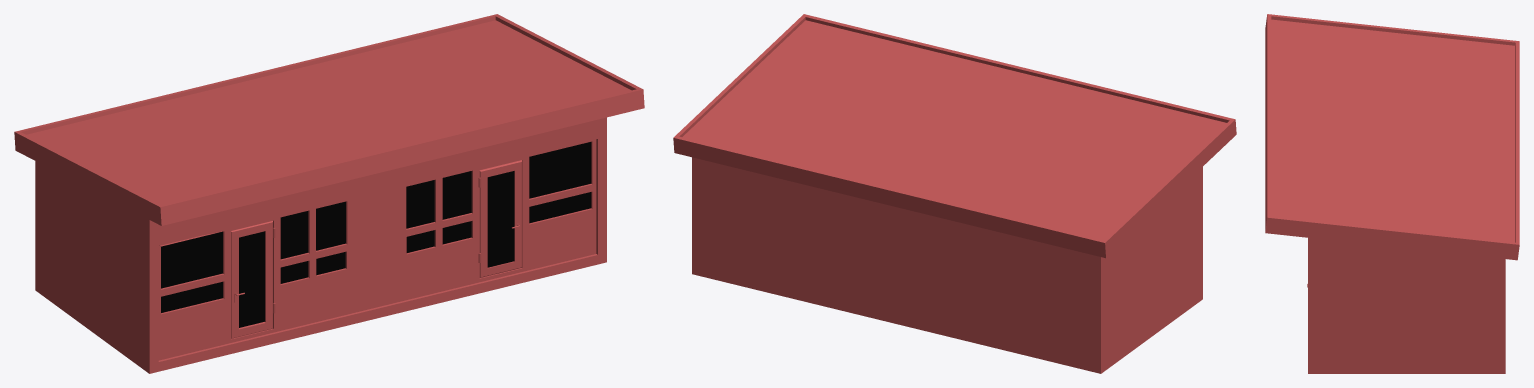
Rendered from SM_shop_5.fbx.
The picture shows the model from 3 angles, left to right: view 1: azimuth 30°, elevation 25°; view 2: azimuth 150°, elevation 25°; view 3: azimuth 270°, elevation 25°; orthographic projection. The views are drawn at different scales.
Visible parts, largest first — view 1: Cube_13, Cylinder_7, Cylinder_5; view 2: Cube_13; view 3: Cube_13.
Boxes of the visible parts, x1,y1,x2,y2 form: Cube_13: [14, 14, 644, 373]; Cylinder_7: [478, 160, 521, 277]; Cylinder_5: [231, 221, 275, 338]; Cube_13: [673, 14, 1236, 373]; Cube_13: [1265, 14, 1519, 373].
Bounding box in the file's own units: 1056 × 391 × 557.
